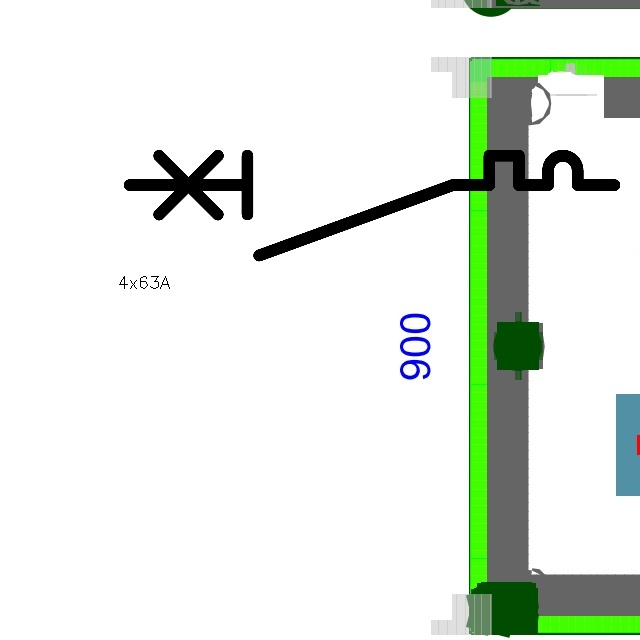interruptor_termomagnetico: (117, 143, 627, 268)
